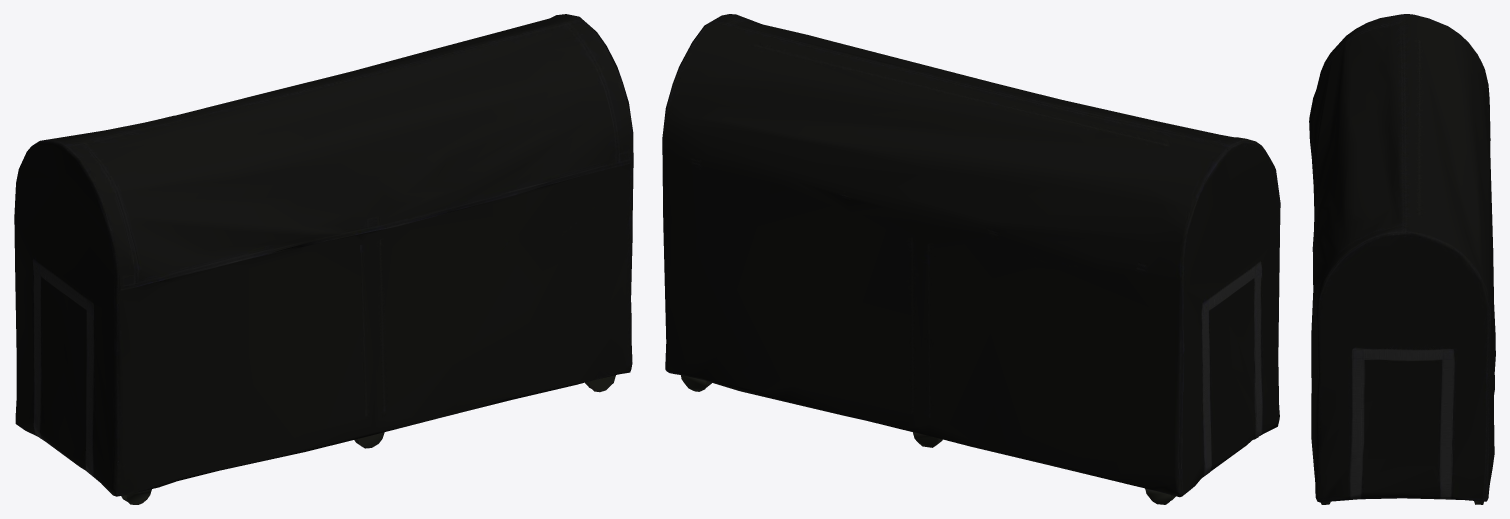
The model's file is tostero_skrzynia_do_przechowywania_ogr_10411440.glb.
3 renders of one model, left to right at view 1: azimuth 30°, elevation 25°; view 2: azimuth 150°, elevation 25°; view 3: azimuth 270°, elevation 25°, orthographic. The views are drawn at different scales.
Parts seen in each view (by area): view 1: tostero_skrzynia_do_przechowywania_ogr_10411440; view 2: tostero_skrzynia_do_przechowywania_ogr_10411440; view 3: tostero_skrzynia_do_przechowywania_ogr_10411440.
Part boxes in pixels (x1,y1,x2,y2): tostero_skrzynia_do_przechowywania_ogr_10411440: [14, 14, 633, 504]; tostero_skrzynia_do_przechowywania_ogr_10411440: [662, 14, 1280, 504]; tostero_skrzynia_do_przechowywania_ogr_10411440: [1309, 14, 1495, 504].
Size of the model in its own units: 1.31 by 0.7872 by 0.4681.
Materials: 1 (1 with a texture image).
